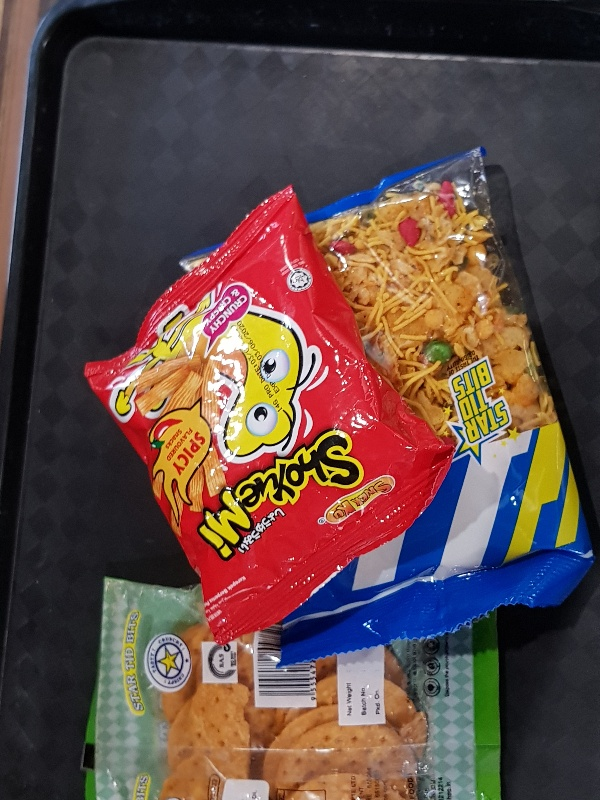ShoyueMi Spicy Flavoured Snacks: (81, 183, 456, 645)
Star Tidbits 'O' Ring: (82, 575, 503, 800)
Star Tidbits Mixer: (180, 146, 593, 667)
